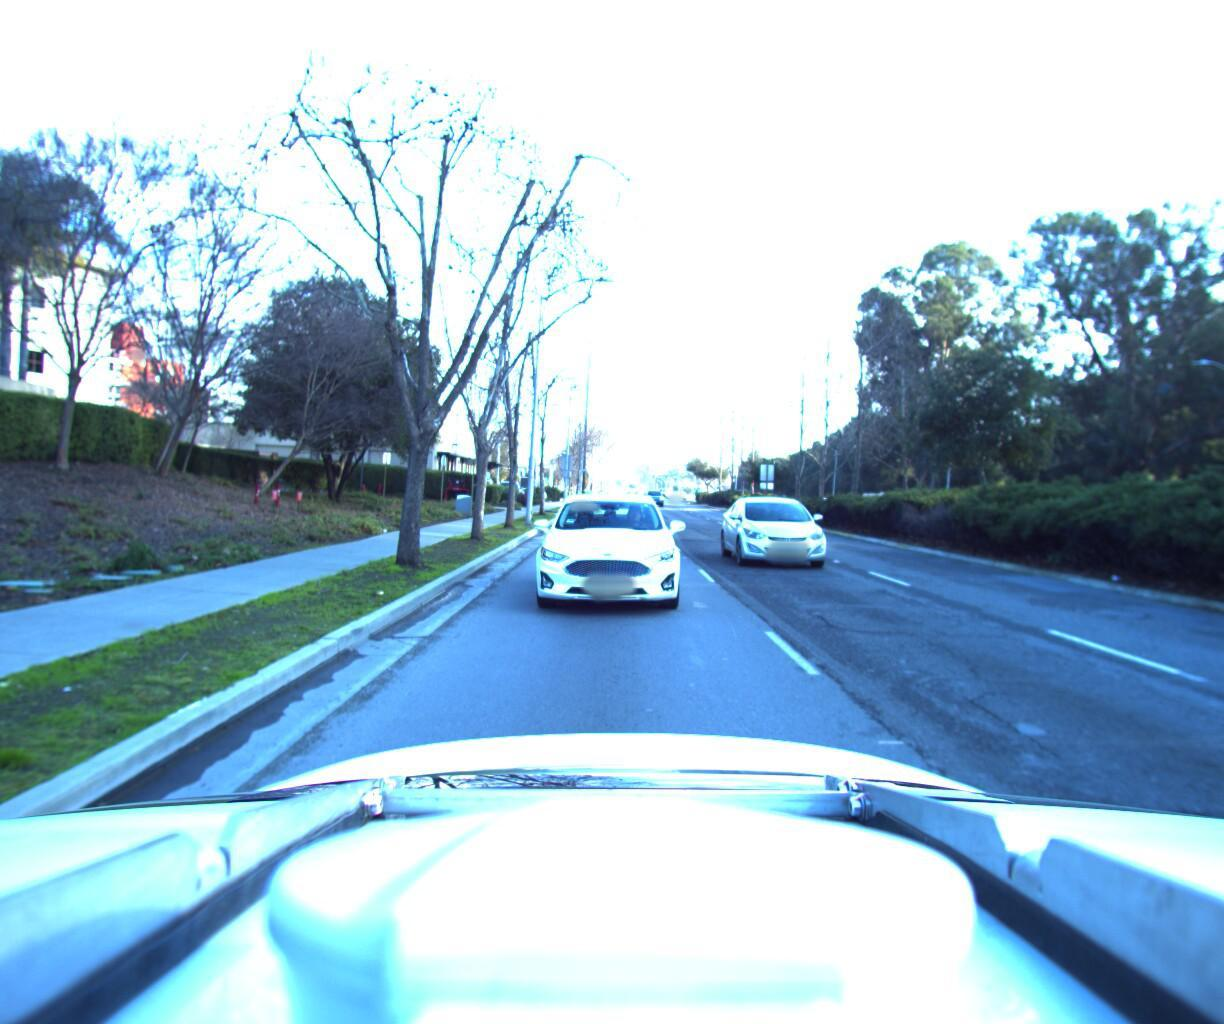car: (528, 482, 683, 619), (723, 490, 858, 583), (641, 486, 663, 506)
